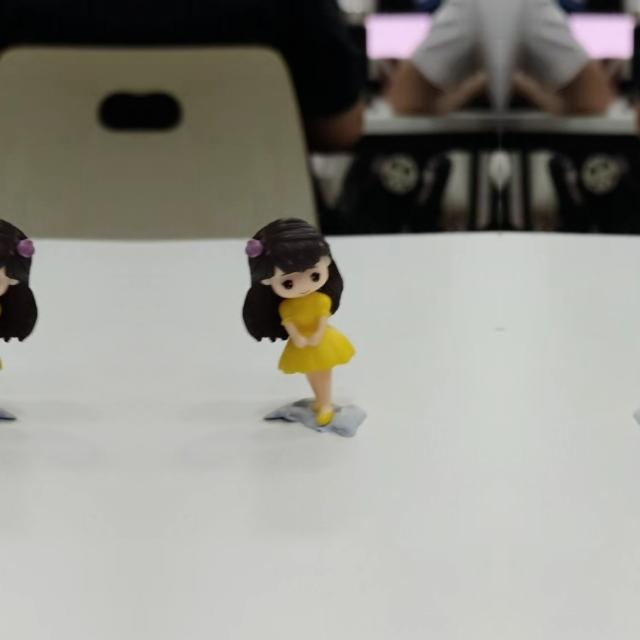woman head: (246, 208, 334, 302), (0, 208, 34, 302)
